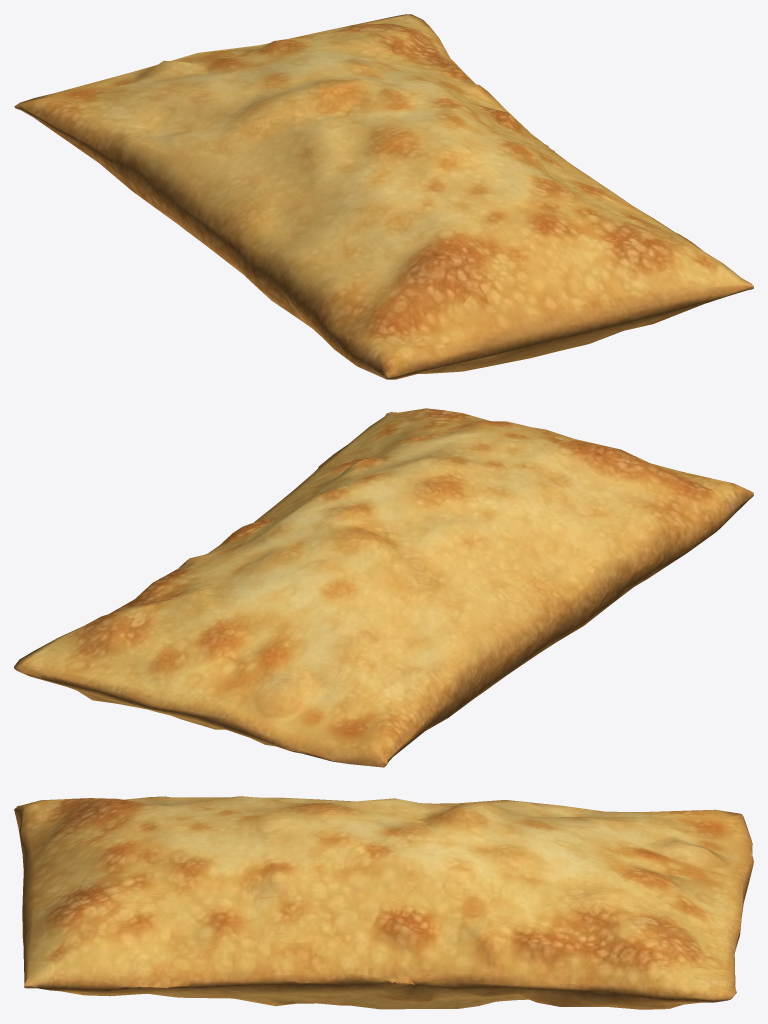
The model's file is pastel.glb.
The picture shows the model from 3 angles, top to bottom: view 1: azimuth 30°, elevation 25°; view 2: azimuth 150°, elevation 25°; view 3: azimuth 270°, elevation 25°; orthographic projection. The views are drawn at different scales.
Parts seen in each view (by area): view 1: Pastel; view 2: Pastel; view 3: Pastel.
Boxes of the visible parts, x1=… form: Pastel: x1=14, y1=14, x2=753, y2=379; Pastel: x1=14, y1=408, x2=753, y2=767; Pastel: x1=14, y1=796, x2=753, y2=1009.
Bounding box in the file's own units: 0.0901 × 0.0385 × 0.15.
1 material, 1 textured.
